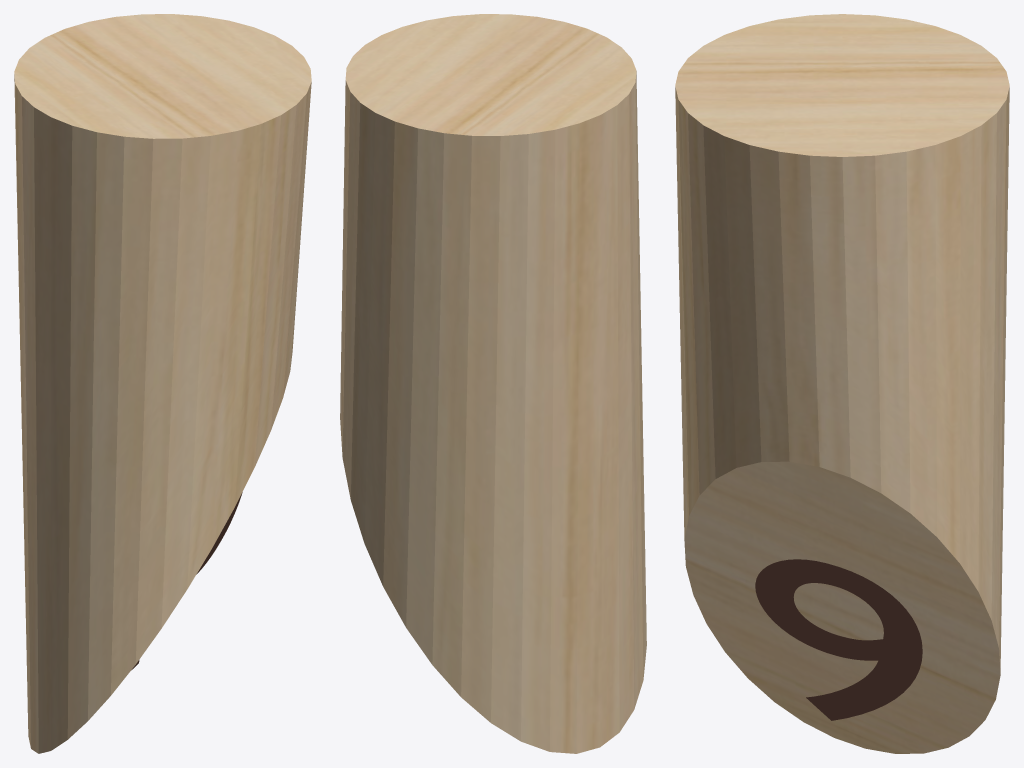
The model's file is pin6.glb.
The picture shows the model from 3 angles, left to right: view 1: azimuth 30°, elevation 25°; view 2: azimuth 150°, elevation 25°; view 3: azimuth 270°, elevation 25°; orthographic projection. The views are drawn at different scales.
Visible parts, largest first — view 1: 円柱.006; view 2: 円柱.006; view 3: 円柱.006.
Boxes of the visible parts, x1=… form: 円柱.006: x1=14, y1=14, x2=311, y2=753; 円柱.006: x1=340, y1=14, x2=646, y2=753; 円柱.006: x1=675, y1=14, x2=1009, y2=753.
Bounding box in the file's own units: 1.16 × 2.79 × 1.16.
2 materials, 1 textured.
